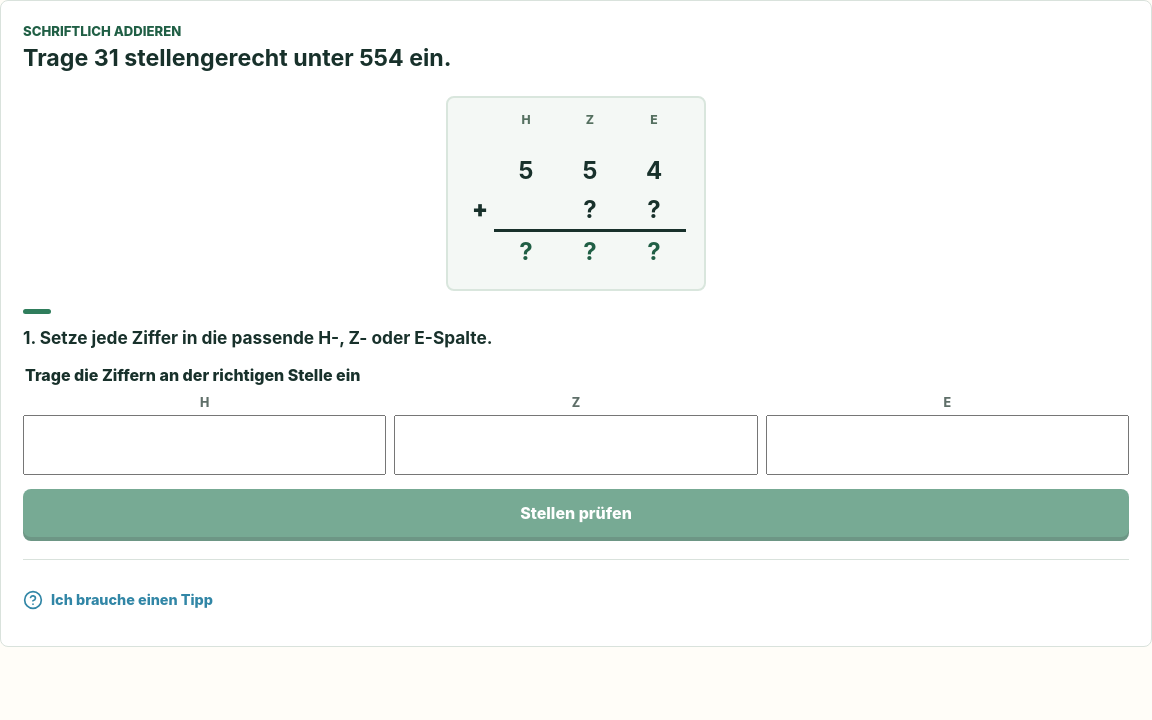
Scenario: ExerciseCard › startet schriftliche Verfahren mit einer neutralen stellengerechten Anordnung
The image size is (1152, 720).
Check: the element with class "column-row" reads "? ?", box [583, 195, 661, 224]
Check: the element with class "column-row" reads "? ? ?", box [494, 229, 686, 271]
Type "3" into the field named "Zehner". click: (576, 445)
box: [394, 415, 758, 475]
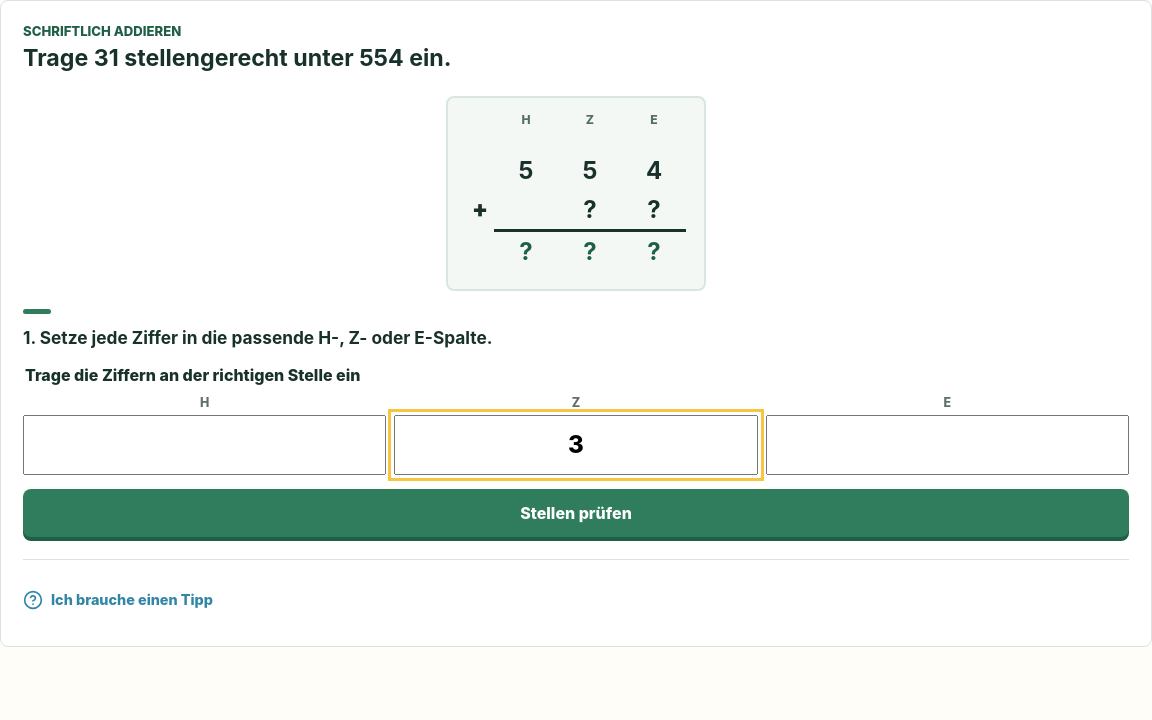
Type "1" into the field named "Einer". click: (947, 445)
box: [766, 415, 1129, 475]
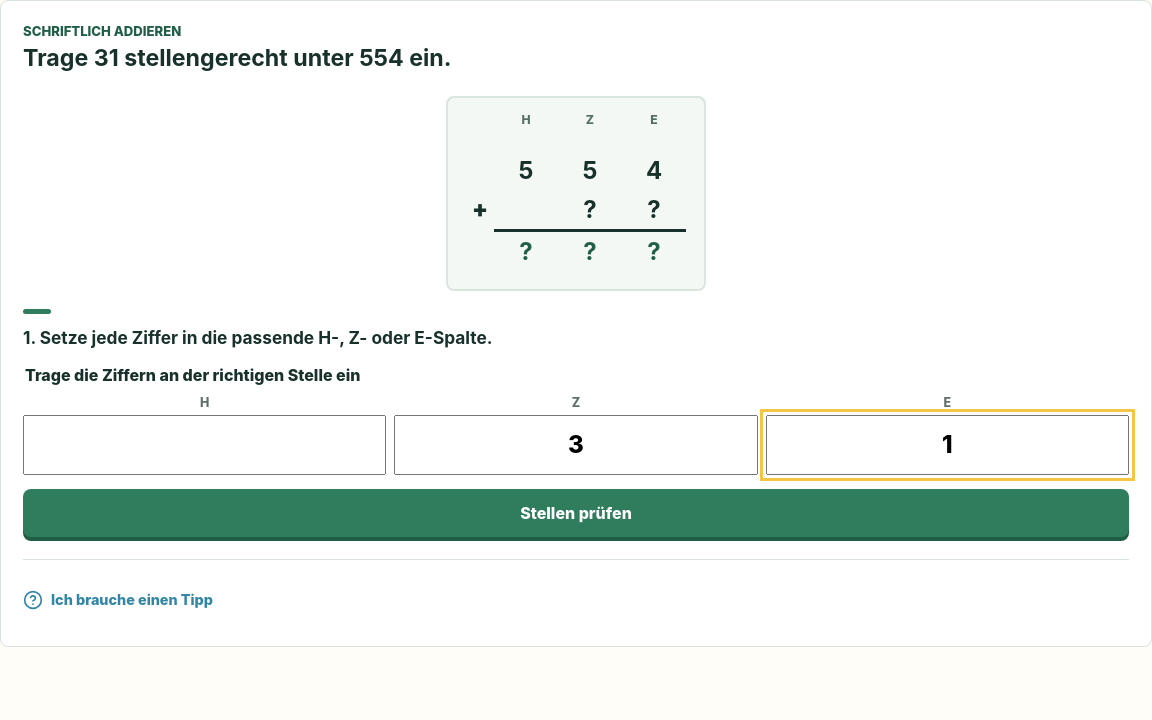
Click the button "Stellen prüfen". click: (576, 513)
box: [23, 489, 1129, 537]
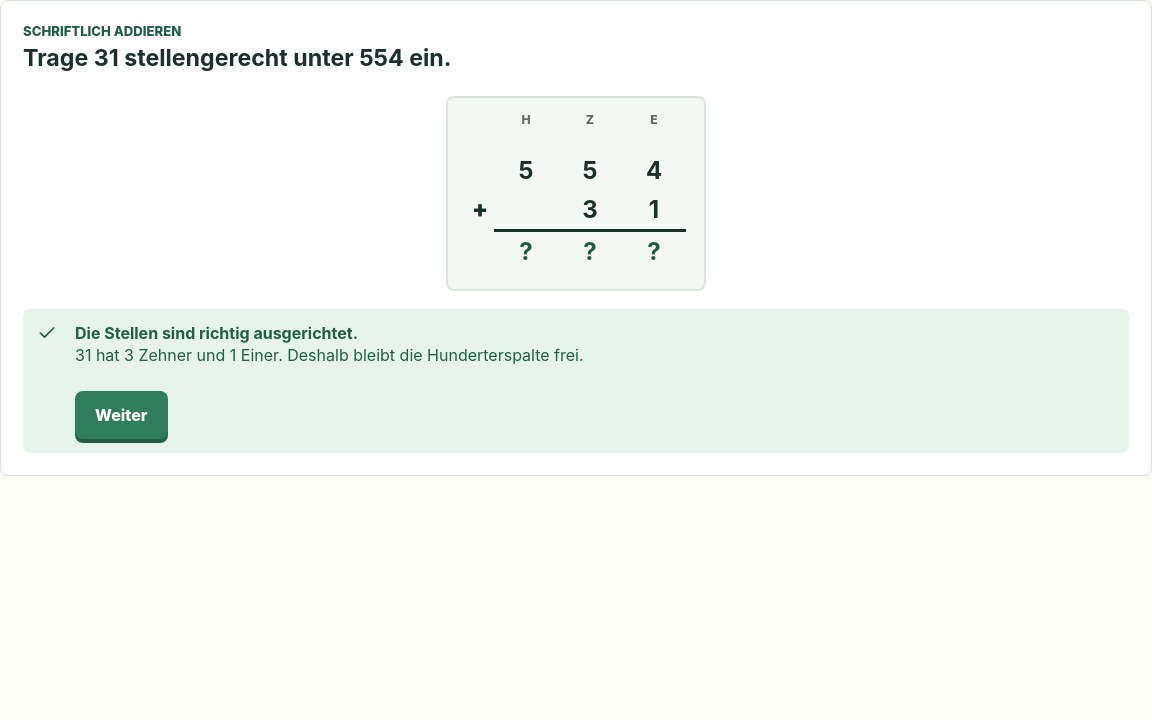
Check: the element with class "column-row" reads "3 1", box [582, 195, 659, 224]
